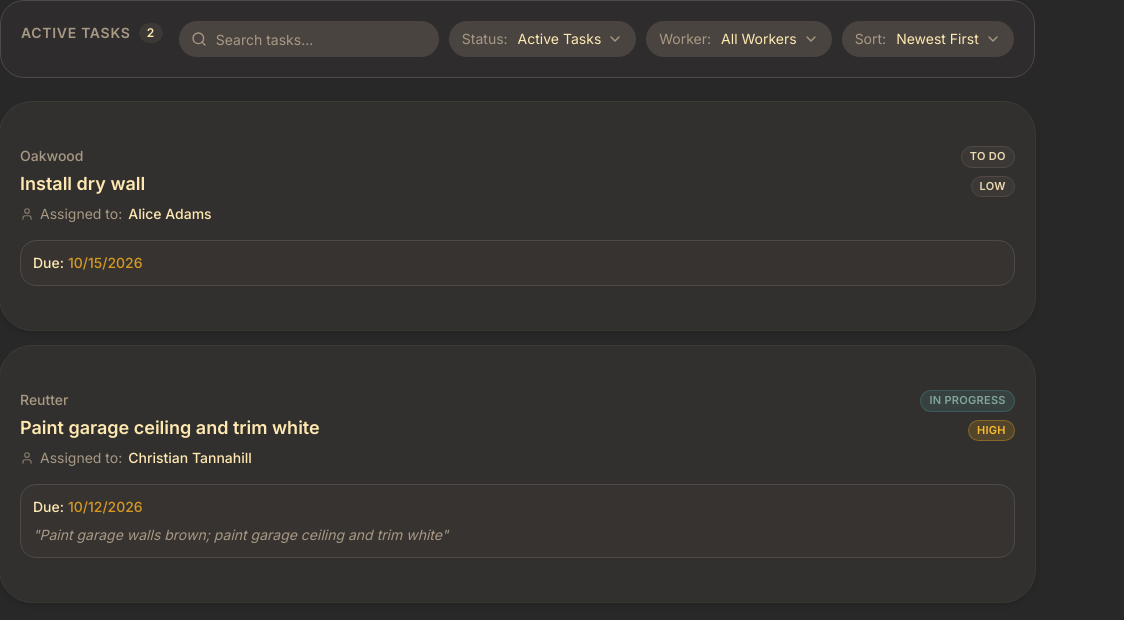
Test: ManageTaskList › filters tasks by selected worker
Click the dropdown named "filter by worker" at (739, 39), box [646,21,832,57]
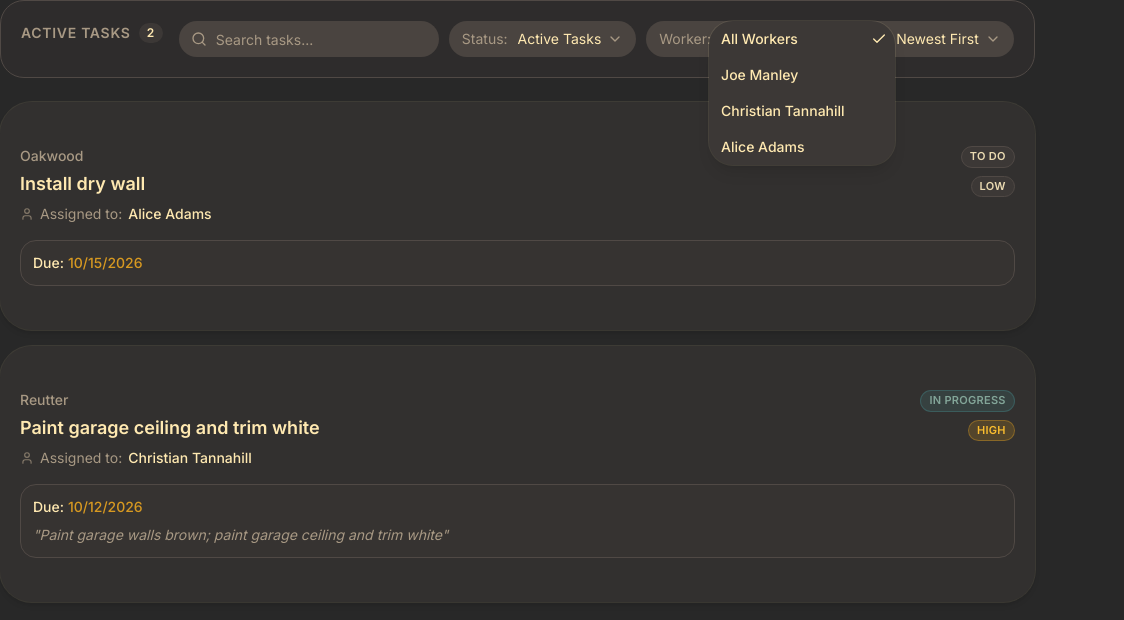
Click the option "Alice Adams" at (763, 146), box [721,138,804,155]
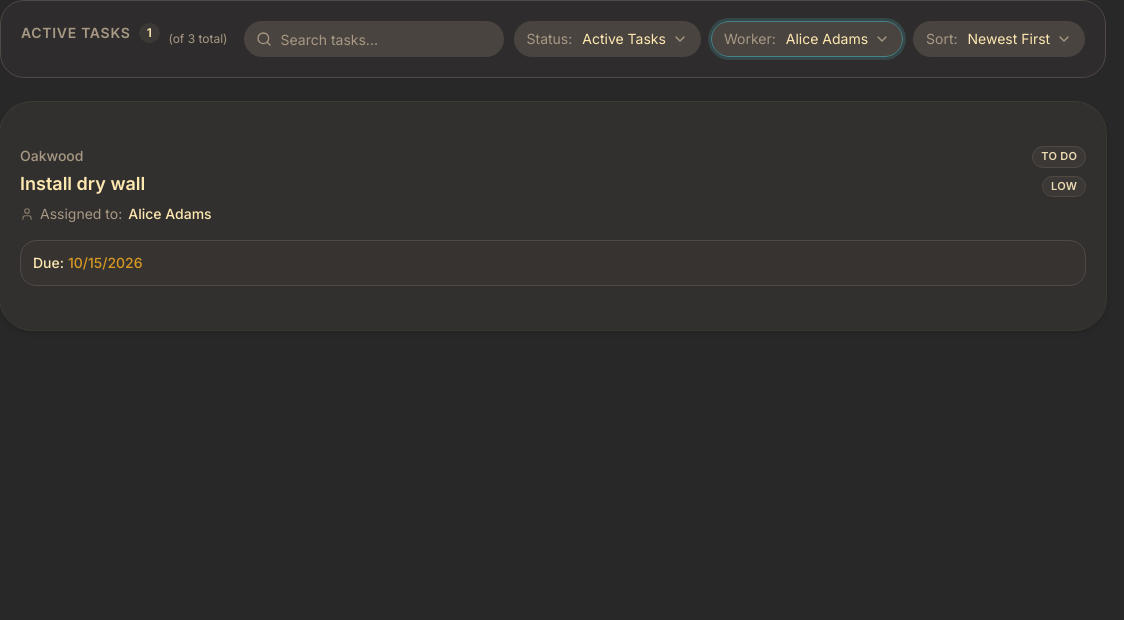
Expected: the heading "Install dry wall" is shown, [20,173,145,194]
Expected: the heading "Paint garage ceiling and trim white" is gone
